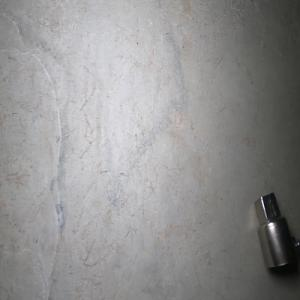MetalPart: (253, 190, 300, 269)
